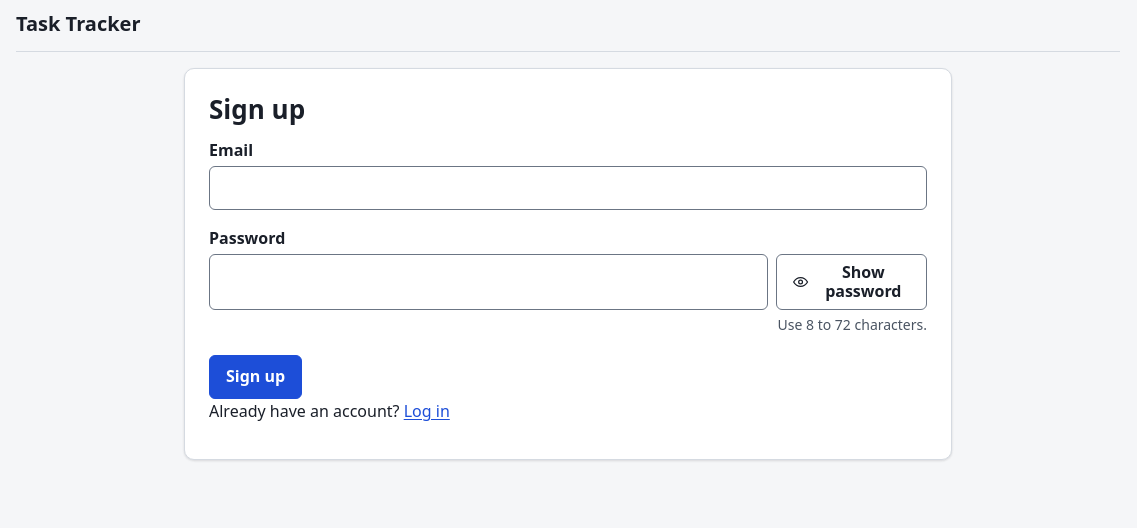
Test: signup › puts the API "fields" under each field and focuses the first
Type "zod@example.com" into the field labelled "Email" at [568, 188], box [209,166,927,210]
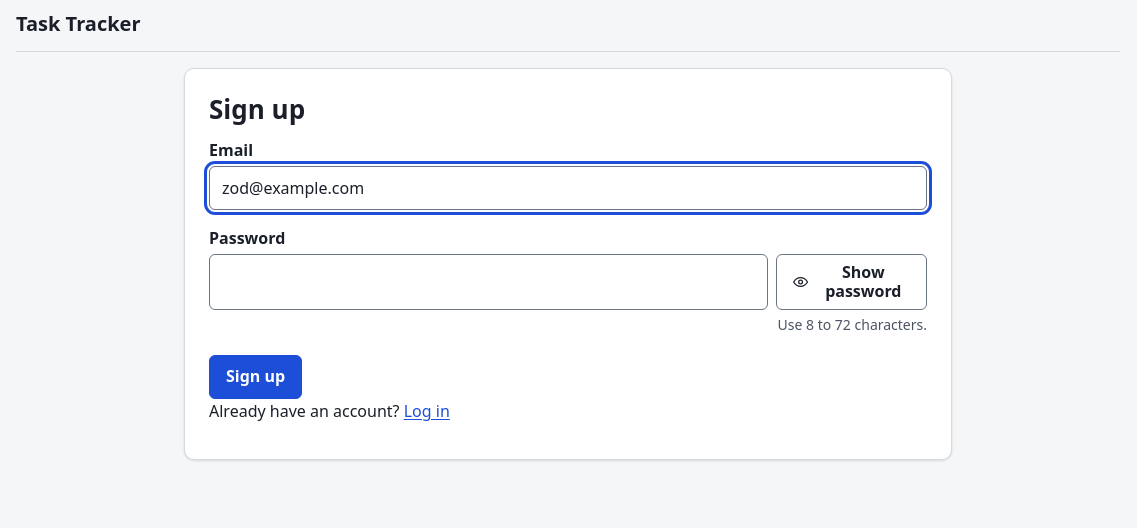
Type "LongEnough1" into the password field labelled "Password" at [489, 282], box [209,254,768,310]
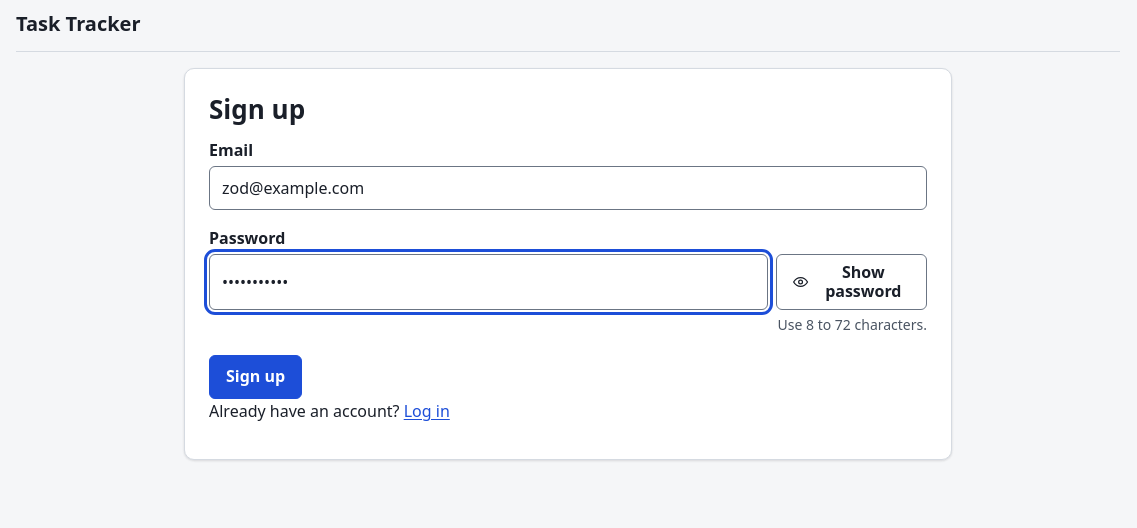
Click the button "Sign up" at [256, 377], box [209,355,302,399]
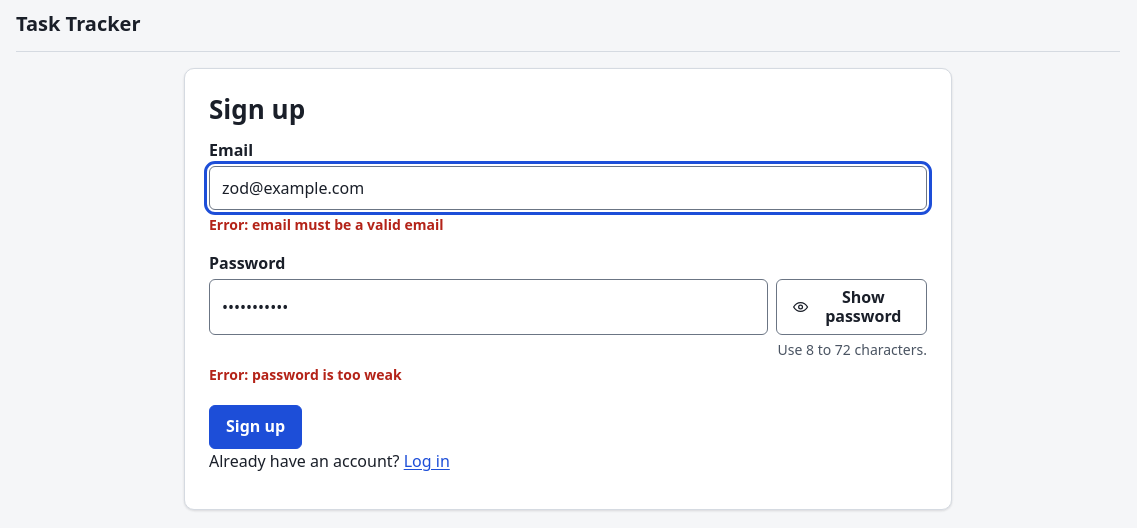
Result: the text "email must be a valid email" is shown at [252,214,444,234]
Result: the text "password is too weak" is shown at [252,365,402,384]
